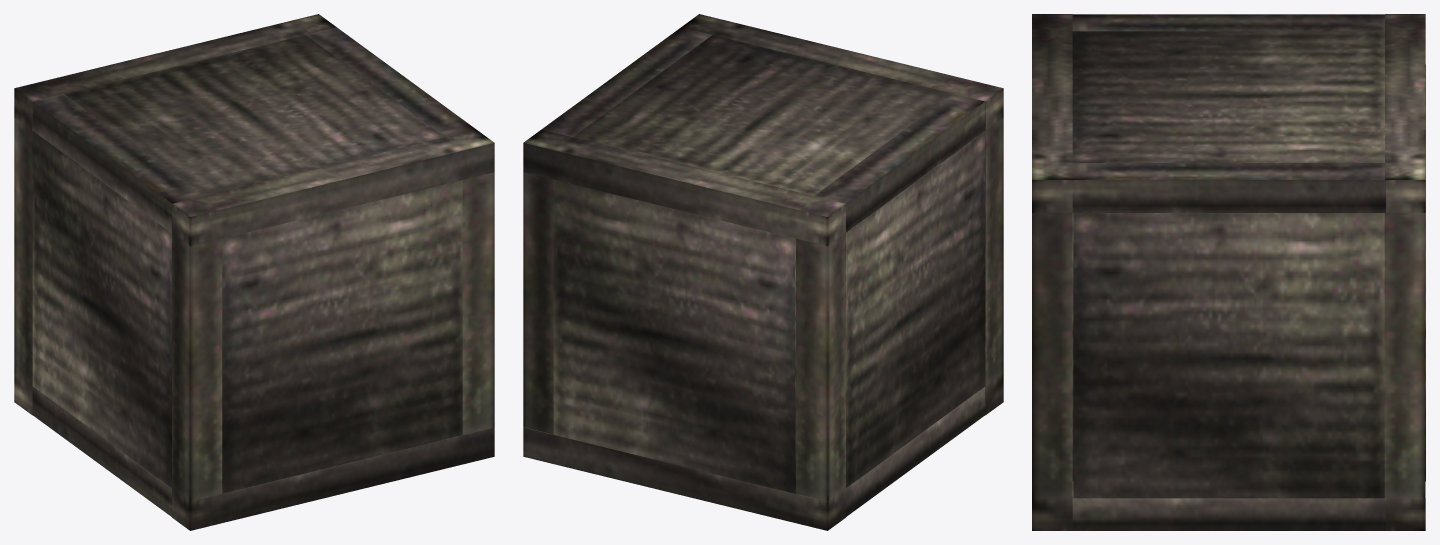
Rendered from Crate_broken.fbx.
3 views of the same model, side by side, from view 1: azimuth 30°, elevation 25°; view 2: azimuth 150°, elevation 25°; view 3: azimuth 270°, elevation 25° (orthographic). The views are drawn at different scales.
Parts seen in each view (by area): view 1: Crate.002, Crate.016, Crate.018, Crate.008, Crate.015, Crate.004, Crate.012, Crate.014, Crate.009, Crate.013, Crate.011, Crate.010 (+1 smaller); view 2: Crate.006, Crate.016, Crate.018, Crate.009, Crate.013, Crate.007, Crate.012, Crate.017, Crate.008, Crate.015, Crate.011, Crate.010 (+1 smaller); view 3: Crate.001, Crate.018, Crate.011, Crate.014, Crate.017, Crate.005, Crate.008, Crate.009, Crate.012, Crate.004, Crate.007, Crate.002.
Boxes of the visible parts, left/top/right/bottom form: Crate.002: left=222, top=180, right=462, bottom=493; Crate.016: left=32, top=131, right=171, bottom=487; Crate.018: left=65, top=35, right=444, bottom=195; Crate.008: left=172, top=129, right=494, bottom=246; Crate.015: left=172, top=233, right=222, bottom=501; Crate.004: left=172, top=427, right=494, bottom=530; Crate.012: left=32, top=94, right=203, bottom=232; Crate.014: left=462, top=172, right=494, bottom=434; Crate.009: left=14, top=14, right=336, bottom=130; Crate.013: left=14, top=118, right=32, bottom=385; Crate.011: left=306, top=27, right=475, bottom=136; Crate.010: left=32, top=386, right=171, bottom=516; Crate.006: left=553, top=179, right=795, bottom=493; Crate.016: left=846, top=131, right=985, bottom=487; Crate.018: left=573, top=35, right=952, bottom=195; Crate.009: left=523, top=129, right=845, bottom=246; Crate.013: left=796, top=233, right=845, bottom=501; Crate.007: left=523, top=427, right=845, bottom=530; Crate.012: left=814, top=94, right=985, bottom=232; Crate.017: left=523, top=172, right=553, bottom=434; Crate.008: left=681, top=14, right=1003, bottom=130; Crate.015: left=985, top=118, right=1003, bottom=385; Crate.011: left=542, top=27, right=711, bottom=136; Crate.010: left=846, top=386, right=985, bottom=516; Crate.001: left=1073, top=213, right=1384, bottom=498; Crate.018: left=1072, top=31, right=1384, bottom=162; Crate.011: left=1072, top=163, right=1385, bottom=212; Crate.014: left=1032, top=213, right=1072, bottom=498; Crate.017: left=1384, top=213, right=1424, bottom=498; Crate.005: left=1072, top=482, right=1385, bottom=530; Crate.008: left=1032, top=14, right=1072, bottom=212; Crate.009: left=1385, top=14, right=1425, bottom=212; Crate.012: left=1072, top=14, right=1384, bottom=31; Crate.004: left=1032, top=498, right=1072, bottom=530; Crate.007: left=1386, top=481, right=1425, bottom=530; Crate.002: left=1072, top=213, right=1073, bottom=481.
Size of the model in its own units: 100 by 98.56 by 100.
